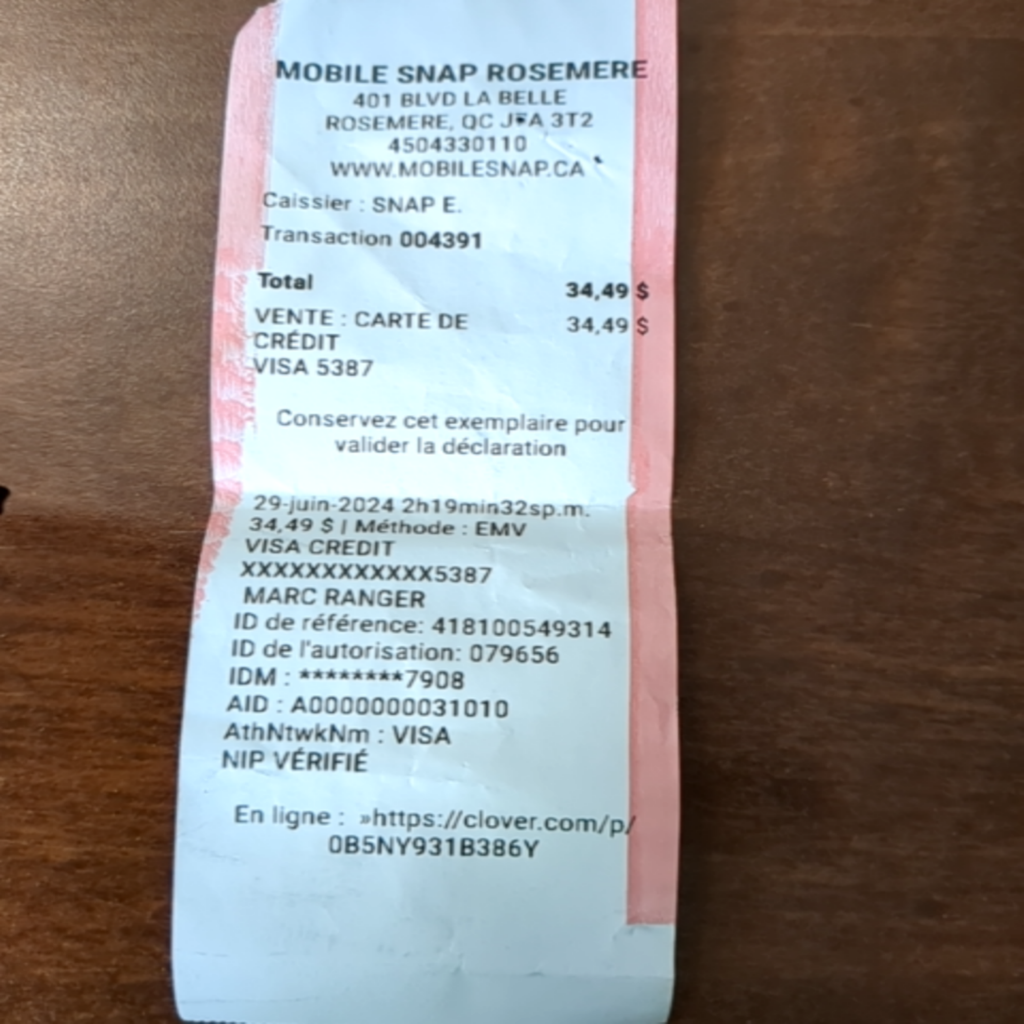recipt: (174, 0, 678, 1022)
